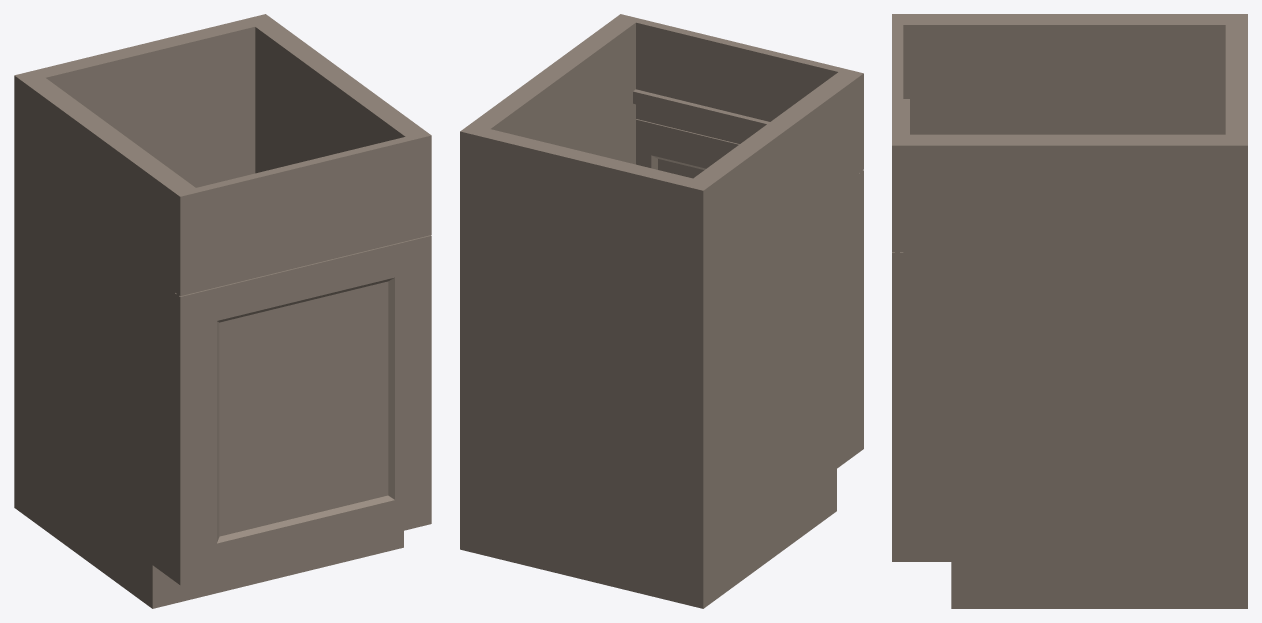
Rendered from Base-Cabinet-Wastebasket-24-Deep_std_001_W21in_1D.glb.
The picture shows the model from 3 angles, left to right: view 1: azimuth 30°, elevation 25°; view 2: azimuth 150°, elevation 25°; view 3: azimuth 270°, elevation 25°; orthographic projection. The views are drawn at different scales.
Visible parts, largest first — view 1: Base-Cabinet-Wastebasket-24-Deep.std.001_W21in_1D; view 2: Base-Cabinet-Wastebasket-24-Deep.std.001_W21in_1D; view 3: Base-Cabinet-Wastebasket-24-Deep.std.001_W21in_1D.
Part boxes in pixels (left/top/right/bottom): Base-Cabinet-Wastebasket-24-Deep.std.001_W21in_1D: left=14, top=14, right=431, bottom=608; Base-Cabinet-Wastebasket-24-Deep.std.001_W21in_1D: left=460, top=14, right=863, bottom=608; Base-Cabinet-Wastebasket-24-Deep.std.001_W21in_1D: left=892, top=14, right=1247, bottom=608.
Bounding box in the file's own units: 0.5334 × 0.8763 × 0.6096.
